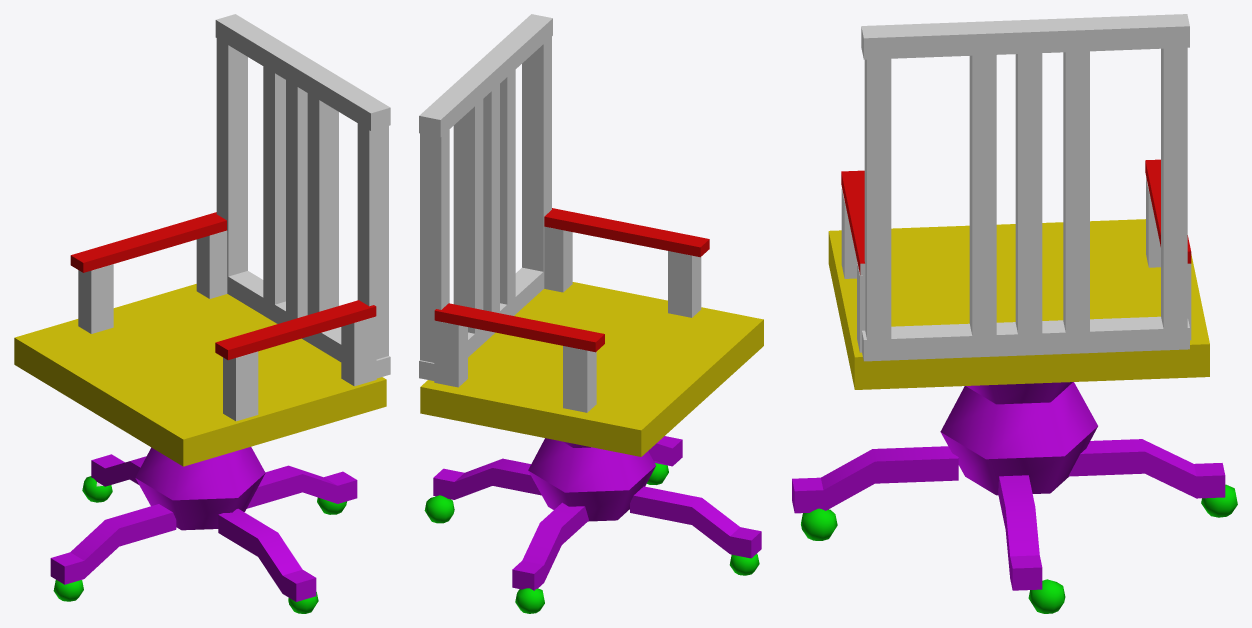
The model's file is chair unwrap.fbx.
The picture shows the model from 3 angles, left to right: view 1: azimuth 30°, elevation 25°; view 2: azimuth 150°, elevation 25°; view 3: azimuth 270°, elevation 25°; orthographic projection. The views are drawn at different scales.
Parts seen in each view (by area): view 1: Chair; view 2: Chair; view 3: Chair.
Part boxes in pixels (box(x1,y1,x2,y2)): Chair: box(14, 14, 390, 613); Chair: box(419, 14, 763, 613); Chair: box(792, 14, 1237, 613).
Size of the model in its own units: 24.16 by 34.41 by 24.64.
